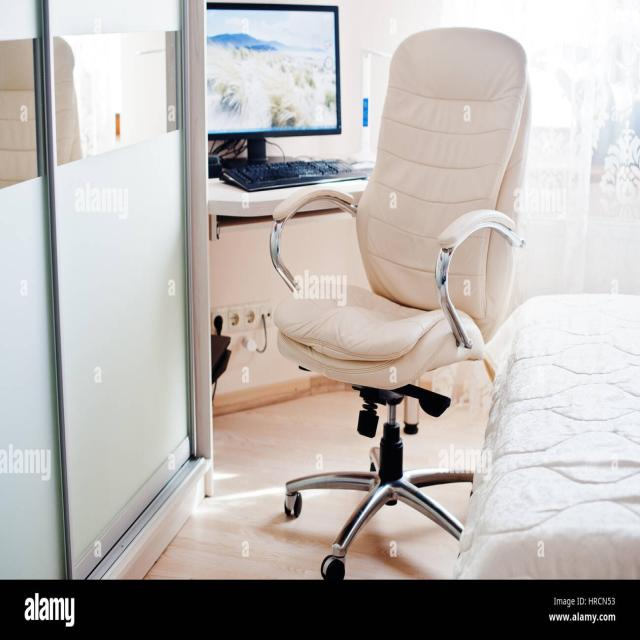chair: (268, 25, 532, 579)
